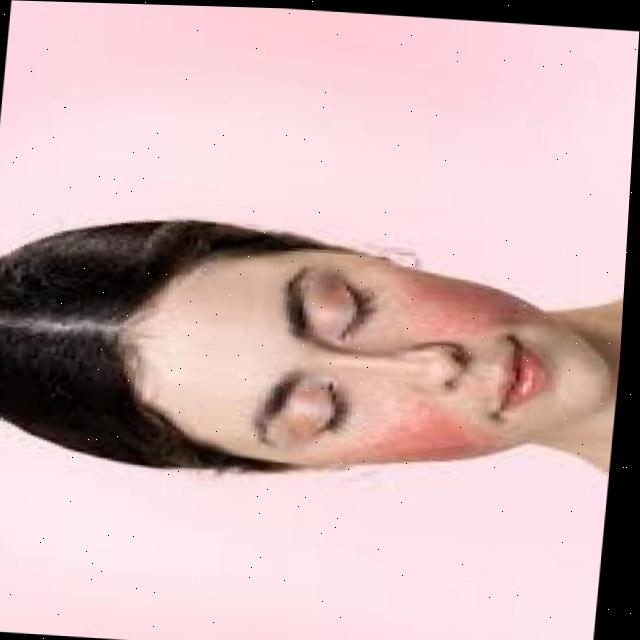Rosacea: (383, 254, 519, 345), (371, 392, 476, 478)
